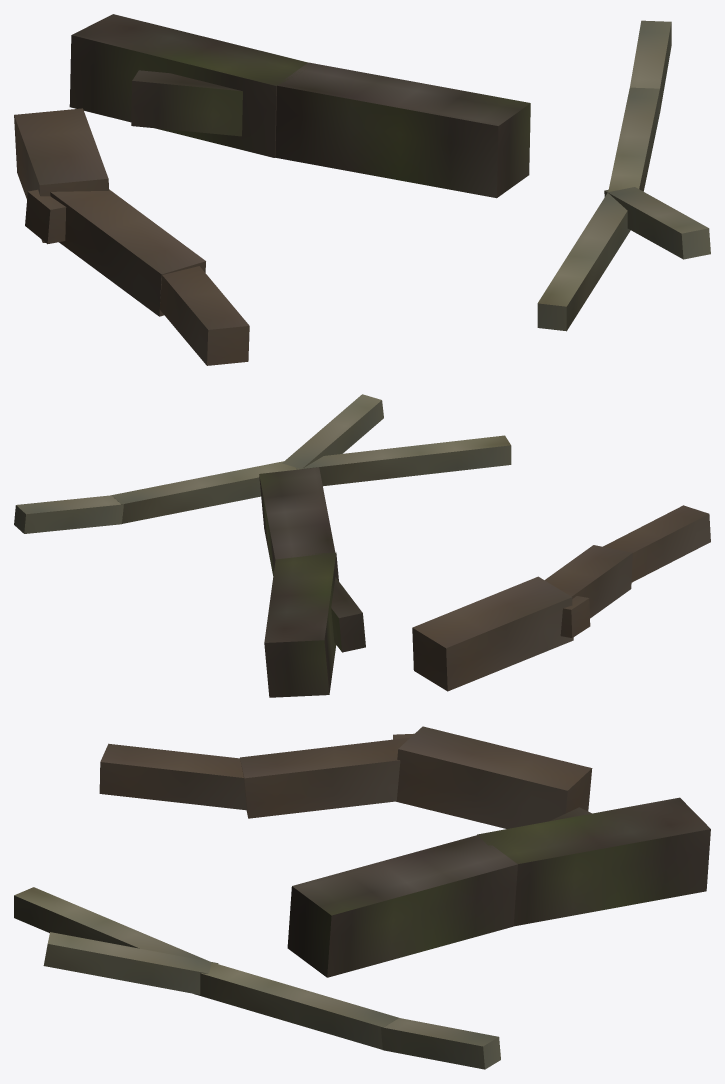
Rendered from floortwig_8.obj.
3 renders of one model, top to bottom at view 1: azimuth 30°, elevation 25°; view 2: azimuth 150°, elevation 25°; view 3: azimuth 270°, elevation 25°, orthographic. The views are drawn at different scales.
Parts seen in each view (by area): view 1: cube; view 2: cube; view 3: cube.
Boxes of the visible parts, box(x1,y1,x2,y2) form: cube: box(14, 14, 710, 365); cube: box(14, 394, 710, 697); cube: box(14, 726, 710, 1069).
Bounding box in the file's own units: 1.26 × 0.1532 × 1.23.
